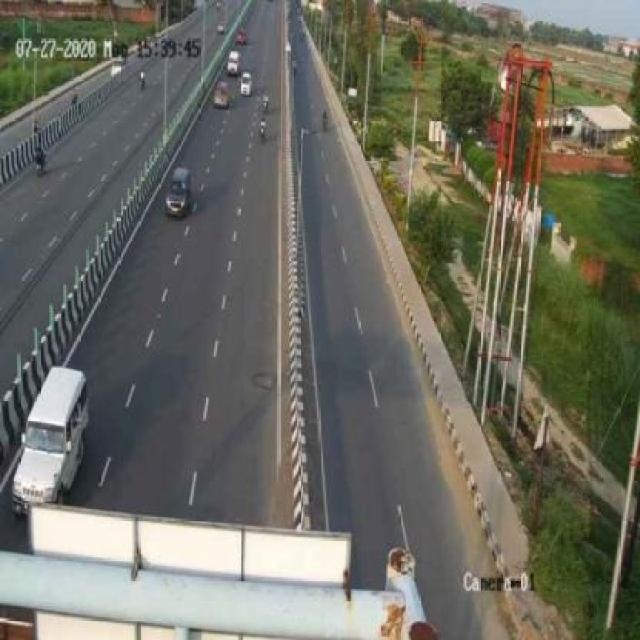car: (8, 363, 95, 523), (165, 166, 192, 219), (212, 74, 232, 111), (237, 69, 255, 100)
